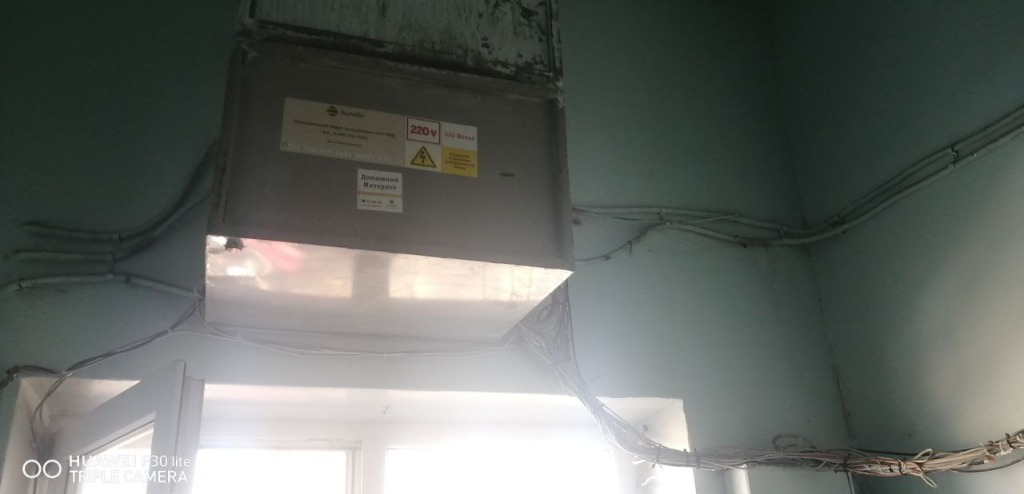e2-6u: (199, 27, 580, 356)
